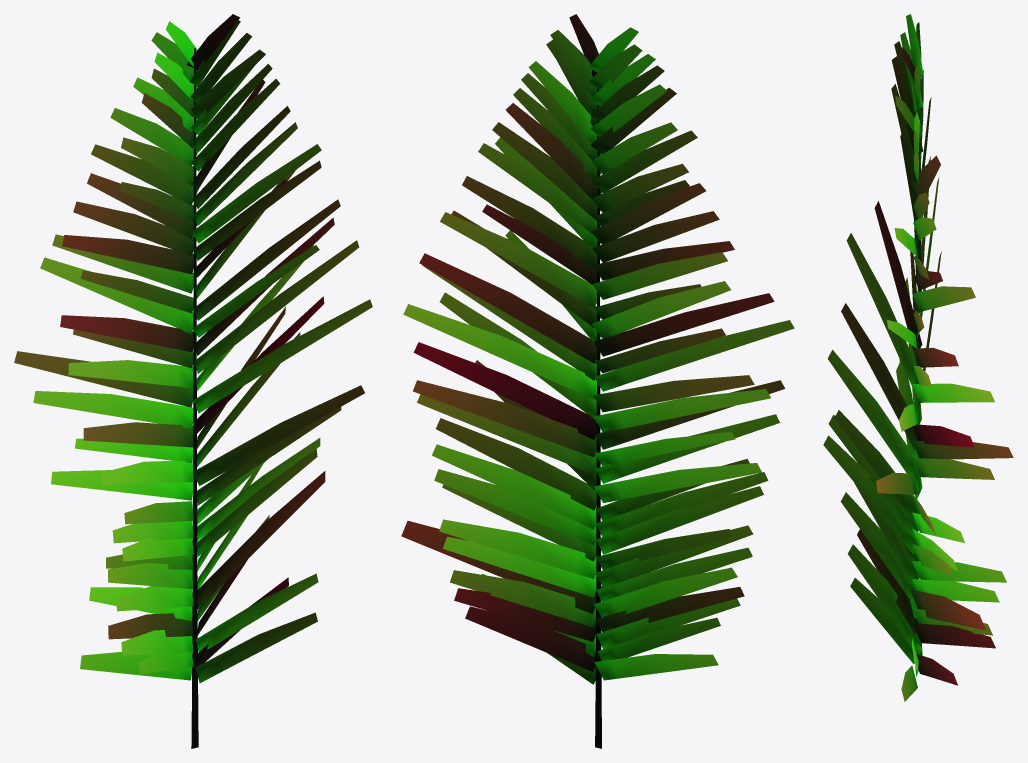
Rendered from Leafmap_Palm_1.fbx.
3 views of the same model, side by side, from view 1: azimuth 30°, elevation 25°; view 2: azimuth 150°, elevation 25°; view 3: azimuth 270°, elevation 25° (orthographic). The views are drawn at different scales.
Parts seen in each view (by area): view 1: Leafmap_Palm_1; view 2: Leafmap_Palm_1; view 3: Leafmap_Palm_1.
Boxes of the visible parts, x1=… form: Leafmap_Palm_1: x1=14, y1=14, x2=372, y2=748; Leafmap_Palm_1: x1=401, y1=14, x2=794, y2=748; Leafmap_Palm_1: x1=823, y1=14, x2=1013, y2=701.
Bounding box in the file's own units: 536 × 1106 × 265.
